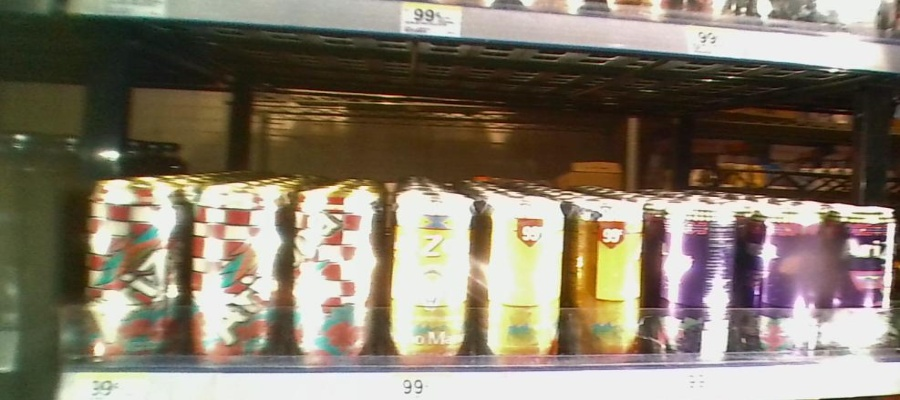bottle: (79, 171, 184, 369), (186, 175, 281, 375), (285, 182, 379, 370), (386, 188, 478, 371), (485, 191, 573, 374), (649, 195, 737, 368), (740, 193, 822, 364), (574, 196, 646, 369), (827, 193, 898, 366)
